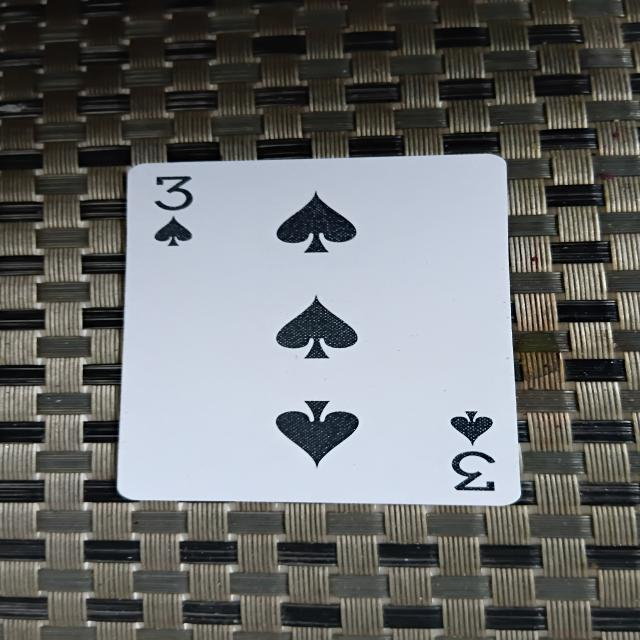3S: (106, 157, 540, 512)
